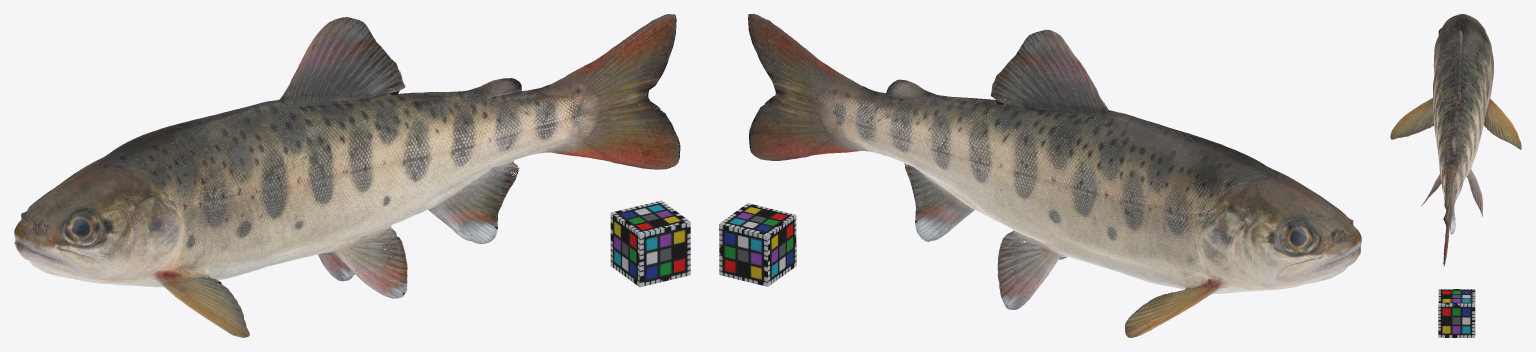
The model's file is yamame.glb.
3 views of the same model, side by side, from view 1: azimuth 30°, elevation 25°; view 2: azimuth 150°, elevation 25°; view 3: azimuth 270°, elevation 25° (orthographic). The views are drawn at different scales.
Parts seen in each view (by area): view 1: Q11240-1all_5, Cube_2; view 2: Q11240-1all_5, Cube_2; view 3: Q11240-1all_5, Cube_2.
Part boxes in pixels (bbox=[...]): Q11240-1all_5: bbox=[14, 14, 680, 337]; Cube_2: bbox=[610, 200, 690, 287]; Q11240-1all_5: bbox=[748, 14, 1361, 337]; Cube_2: bbox=[719, 203, 796, 286]; Q11240-1all_5: bbox=[1390, 14, 1521, 265]; Cube_2: bbox=[1438, 289, 1475, 337].
Size of the model in its own units: 10.86 by 5.17 by 3.02.
3 materials, 3 textured.
